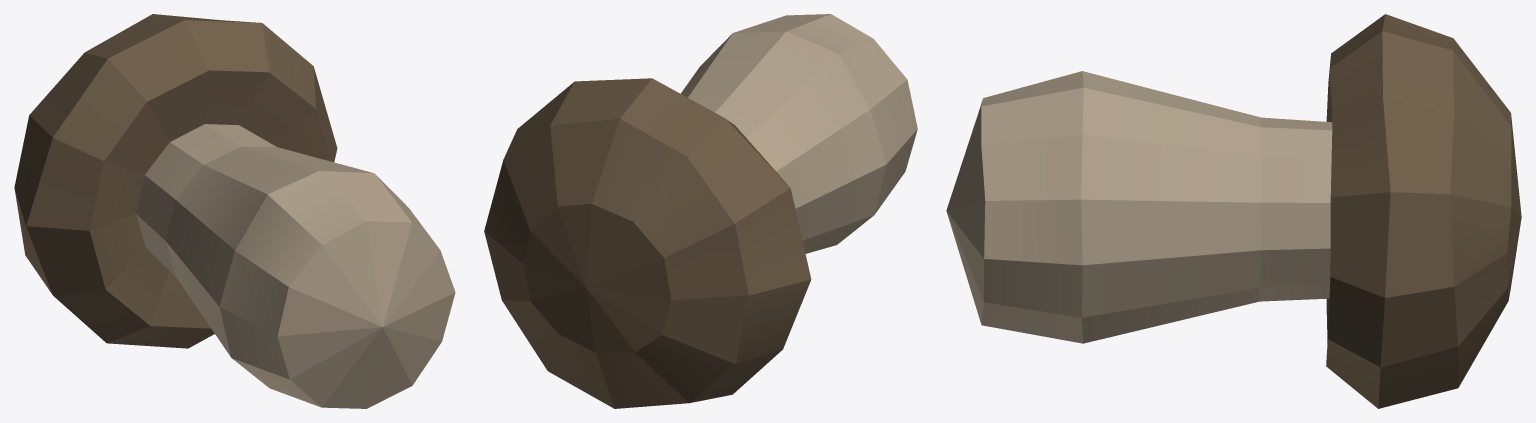
File: Boletus_1.fbx
3 views of the same model, side by side, from view 1: azimuth 30°, elevation 25°; view 2: azimuth 150°, elevation 25°; view 3: azimuth 270°, elevation 25° (orthographic). The views are drawn at different scales.
Parts seen in each view (by area): view 1: Group10211; view 2: Group10211; view 3: Group10211.
Part boxes in pixels (x1,y1,x2,y2): Group10211: (14,14,455,408); Group10211: (484,14,917,408); Group10211: (946,14,1521,408).
Size of the model in its own units: 50.08 by 49.51 by 72.03.
